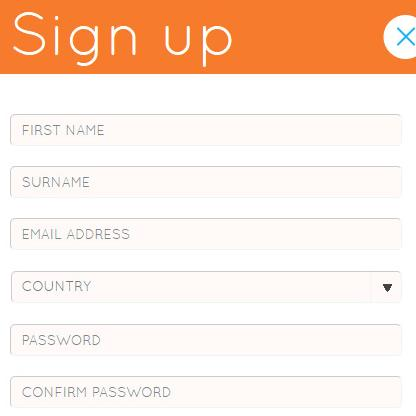field: (10, 323, 404, 358), (9, 165, 403, 198), (10, 271, 403, 304), (8, 113, 404, 145), (10, 377, 404, 409), (10, 218, 404, 248)
